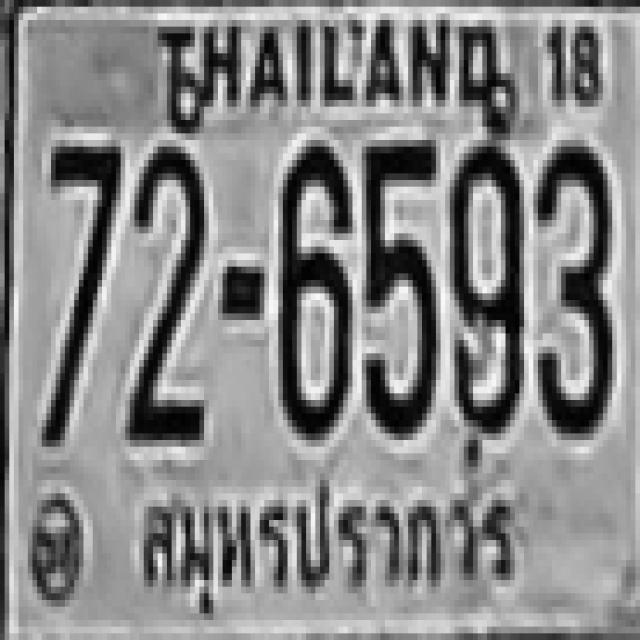2: (125, 153, 204, 440), (128, 143, 202, 417)
3: (534, 137, 608, 430)
5: (362, 134, 436, 434)
6: (278, 140, 348, 433)
7: (40, 140, 119, 440), (44, 140, 118, 433), (46, 140, 116, 333)
9: (446, 140, 520, 433)
SamutPrakan: (122, 464, 521, 623)
